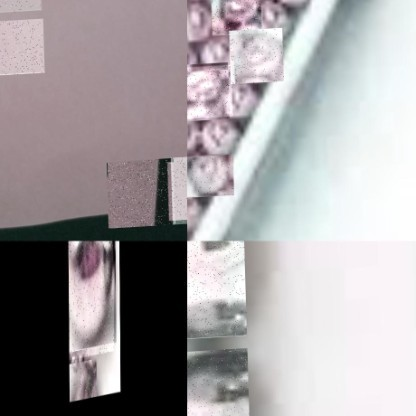ironball: (187, 241, 245, 345), (67, 241, 113, 362), (105, 160, 173, 229), (228, 30, 283, 85), (0, 19, 43, 75), (187, 66, 231, 120), (187, 156, 232, 199), (210, 0, 261, 37), (169, 156, 187, 226), (68, 362, 96, 404)
